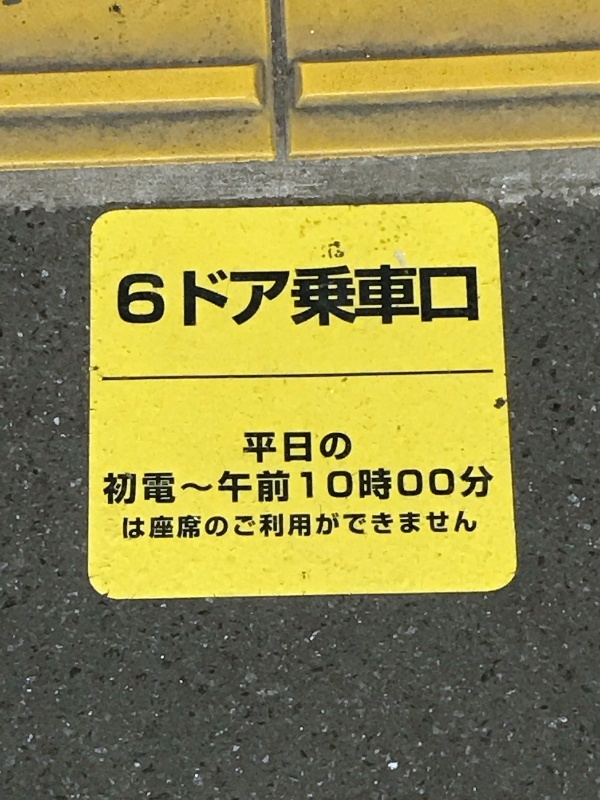text: (129, 263, 144, 328), (145, 263, 160, 328), (161, 263, 176, 328), (177, 263, 192, 328), (193, 263, 208, 328), (209, 263, 224, 328), (225, 263, 240, 328), (241, 263, 256, 328), (257, 263, 272, 328), (273, 263, 288, 328), (289, 263, 304, 328), (305, 263, 320, 328), (321, 263, 336, 328), (337, 263, 352, 328), (353, 263, 368, 328), (369, 263, 384, 328), (385, 263, 400, 328), (401, 263, 416, 328), (417, 263, 432, 328), (433, 263, 448, 328), (449, 263, 464, 328), (465, 263, 480, 328), (113, 461, 128, 512), (129, 461, 144, 512), (145, 461, 160, 512), (161, 461, 176, 512), (177, 461, 192, 512), (193, 461, 208, 512), (209, 461, 224, 512), (225, 461, 240, 512), (241, 461, 256, 512), (257, 461, 272, 512), (273, 461, 288, 512), (289, 461, 304, 512), (305, 461, 320, 512), (321, 461, 336, 512), (337, 461, 352, 512), (353, 461, 368, 512), (369, 461, 384, 512), (385, 461, 400, 512), (401, 461, 416, 512), (417, 461, 432, 512), (433, 461, 448, 512), (449, 461, 464, 512), (465, 461, 480, 512), (481, 461, 496, 512), (337, 428, 353, 466), (119, 263, 128, 328), (257, 428, 272, 466), (273, 428, 288, 466), (289, 428, 304, 466), (305, 428, 320, 466), (321, 428, 336, 466), (129, 511, 144, 545), (145, 511, 160, 545), (161, 511, 176, 545), (177, 511, 192, 545), (193, 511, 208, 545), (209, 511, 224, 545), (225, 511, 240, 545), (241, 511, 256, 545), (257, 511, 272, 545), (273, 511, 288, 545), (289, 511, 304, 545), (305, 511, 320, 545), (321, 511, 336, 545), (337, 511, 352, 545), (353, 511, 368, 545), (369, 511, 384, 545), (385, 511, 400, 545), (401, 511, 416, 545), (417, 511, 432, 545), (433, 511, 448, 545), (449, 511, 464, 545), (465, 511, 480, 545), (243, 428, 256, 466), (104, 461, 112, 512), (122, 511, 128, 545), (481, 263, 483, 328)
